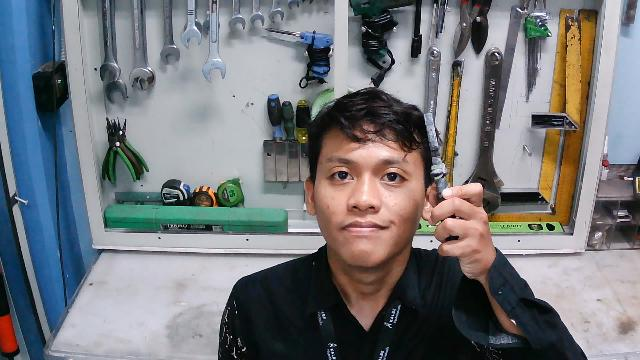tang_kombinasi: (420, 110, 457, 243)
